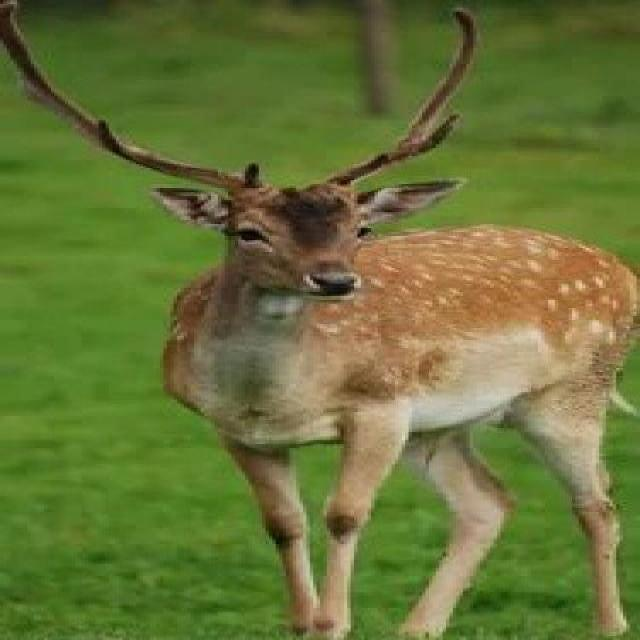deer: (14, 67, 640, 630)
